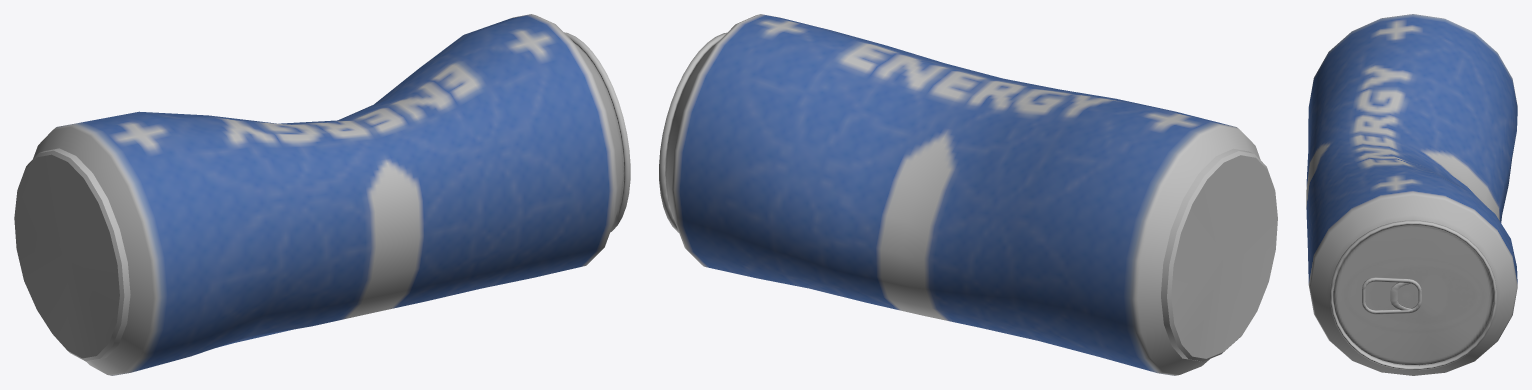
The model's file is SM_DeformedCan_01.fbx.
The picture shows the model from 3 angles, left to right: view 1: azimuth 30°, elevation 25°; view 2: azimuth 150°, elevation 25°; view 3: azimuth 270°, elevation 25°; orthographic projection. The views are drawn at different scales.
Parts seen in each view (by area): view 1: SM_DeformedCan_01_LOD0; view 2: SM_DeformedCan_01_LOD0; view 3: SM_DeformedCan_01_LOD0.
Boxes of the visible parts, left/top/right/bottom form: SM_DeformedCan_01_LOD0: left=14, top=14, right=630, bottom=375; SM_DeformedCan_01_LOD0: left=659, top=14, right=1277, bottom=375; SM_DeformedCan_01_LOD0: left=1306, top=14, right=1517, bottom=375.
Bounding box in the file's own units: 15.6 × 6.98 × 6.88.
1 material, 1 textured.
